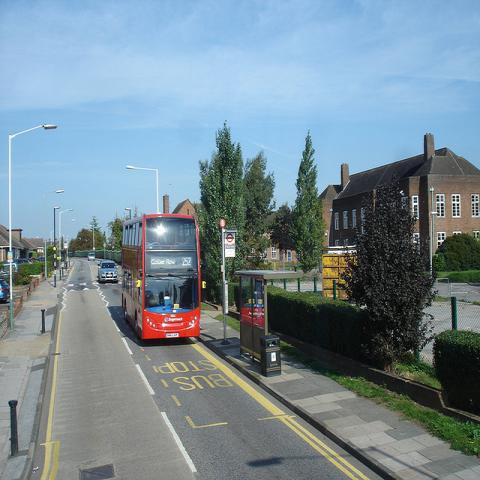bus: (119, 213, 202, 345)
car: (97, 260, 118, 283), (0, 278, 10, 304), (16, 258, 36, 267), (36, 256, 45, 262), (88, 253, 94, 261)
